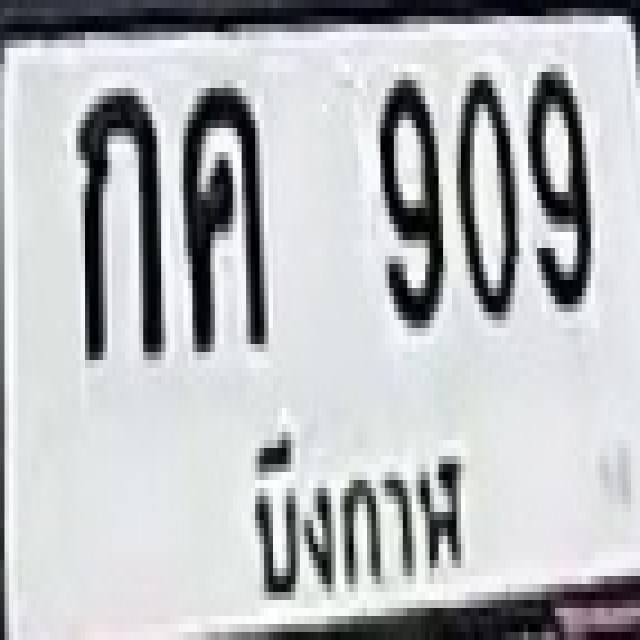0: (452, 64, 515, 312)
9: (376, 72, 439, 320), (524, 64, 586, 304)
A01: (72, 80, 161, 352)
A04: (179, 80, 264, 344)
BKN: (227, 409, 478, 606)
